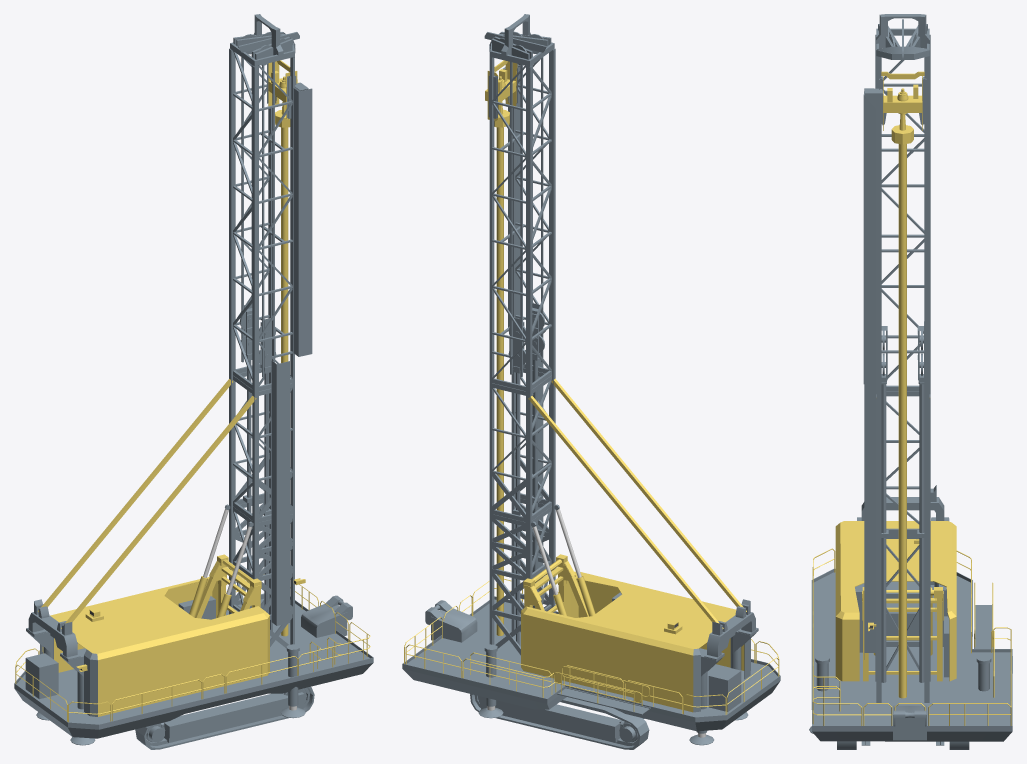
The model's file is PitViper_ABG_5k_v.fbx.
The picture shows the model from 3 angles, left to right: view 1: azimuth 30°, elevation 25°; view 2: azimuth 150°, elevation 25°; view 3: azimuth 270°, elevation 25°; orthographic projection. The views are drawn at different scales.
Parts seen in each view (by area): view 1: PitViper_ABG; view 2: PitViper_ABG; view 3: PitViper_ABG.
Boxes of the visible parts, x1,y1,x2,y2 form: PitViper_ABG: (14,14,373,749); PitViper_ABG: (402,14,780,749); PitViper_ABG: (809,14,1012,749).
Size of the model in its own units: 11.94 by 24.51 by 6.19.
